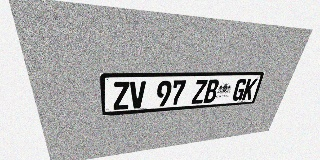7: (170, 80, 186, 106)
9: (156, 81, 172, 107)
B: (203, 79, 220, 103)
G: (231, 79, 248, 101)
K: (241, 78, 258, 100)
V: (130, 81, 146, 109)
Z: (112, 82, 129, 110), (191, 80, 208, 104)
